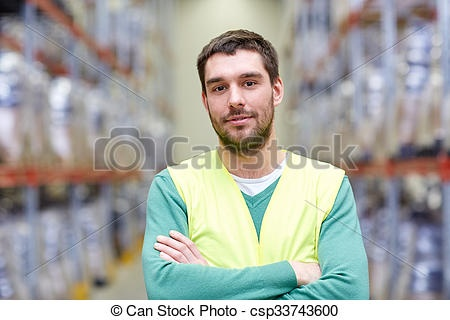person with partial safety: (152, 29, 369, 299)
safety vest: (171, 147, 343, 280)
